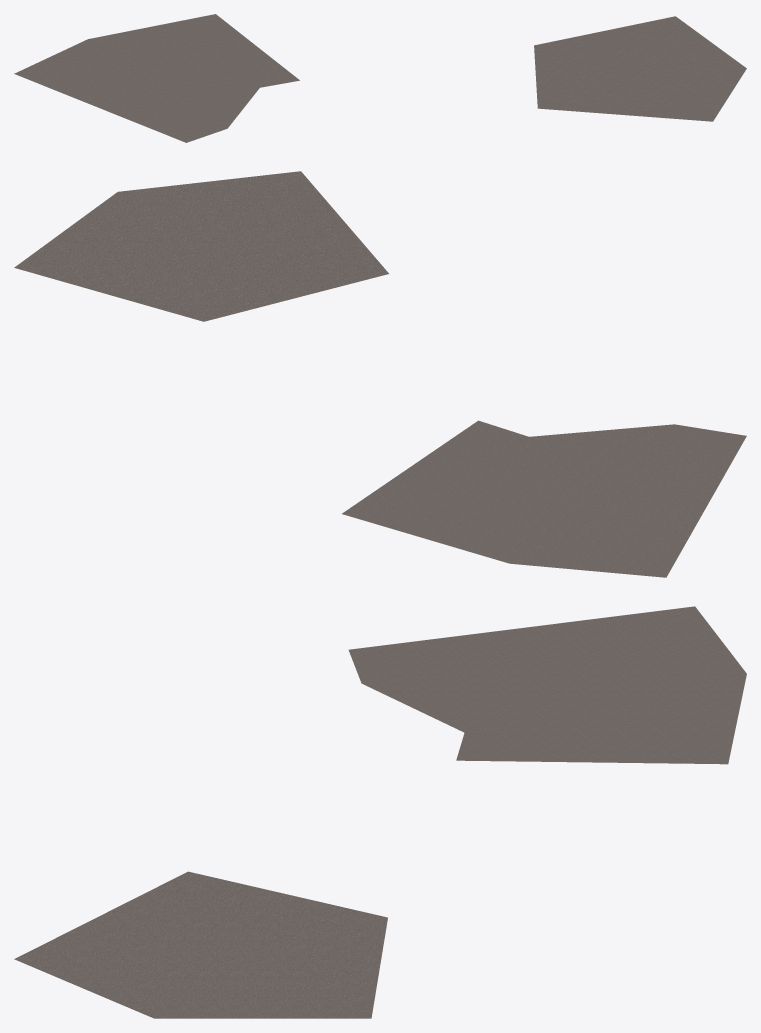
File: kd_connection_town-ground_surface_3_10.glb
3 renders of one model, top to bottom at view 1: azimuth 30°, elevation 25°; view 2: azimuth 150°, elevation 25°; view 3: azimuth 270°, elevation 25°, orthographic. The views are drawn at different scales.
Parts seen in each view (by area): view 1: kd_connection_town-ground_surface_3_10; view 2: kd_connection_town-ground_surface_3_10; view 3: kd_connection_town-ground_surface_3_10.
Boxes of the visible parts, <box> form: kd_connection_town-ground_surface_3_10: <box>14,14,746,142</box>; kd_connection_town-ground_surface_3_10: <box>14,171,746,577</box>; kd_connection_town-ground_surface_3_10: <box>14,606,746,1018</box>.
Bounding box in the file's own units: 11.6 × 0.000121 × 8.71.
Materials: 1 (1 with a texture image).
